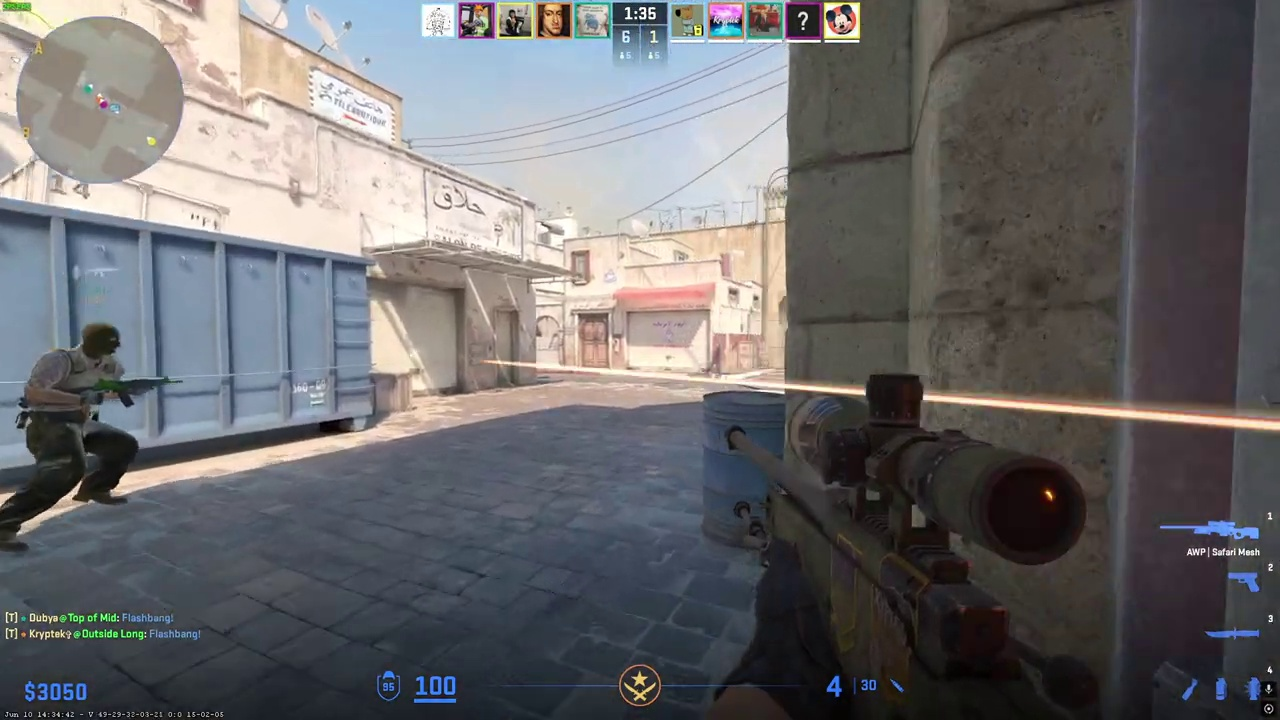Terrorist: (0, 324, 140, 551)
